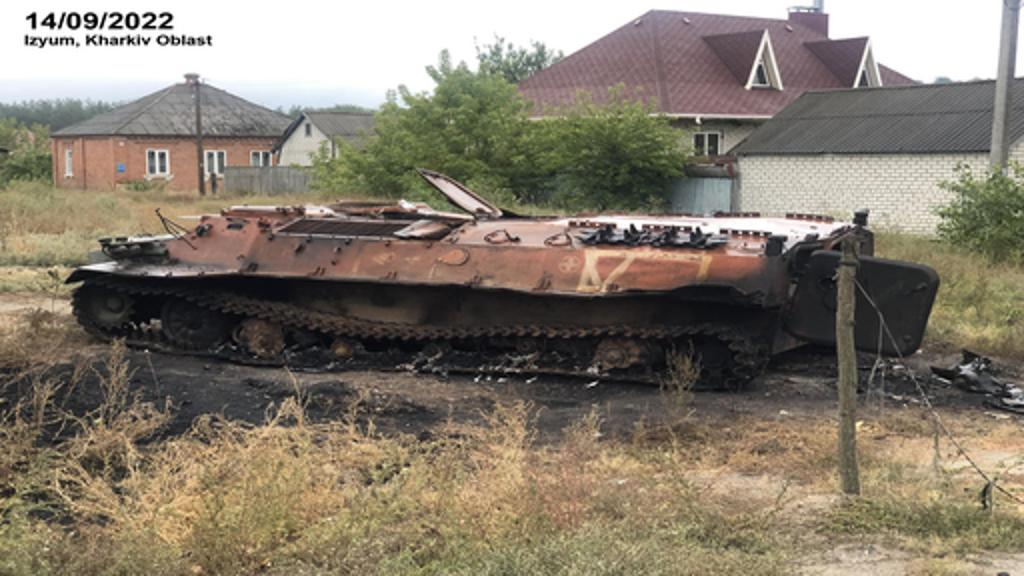APC-IFV: (68, 166, 942, 406)
